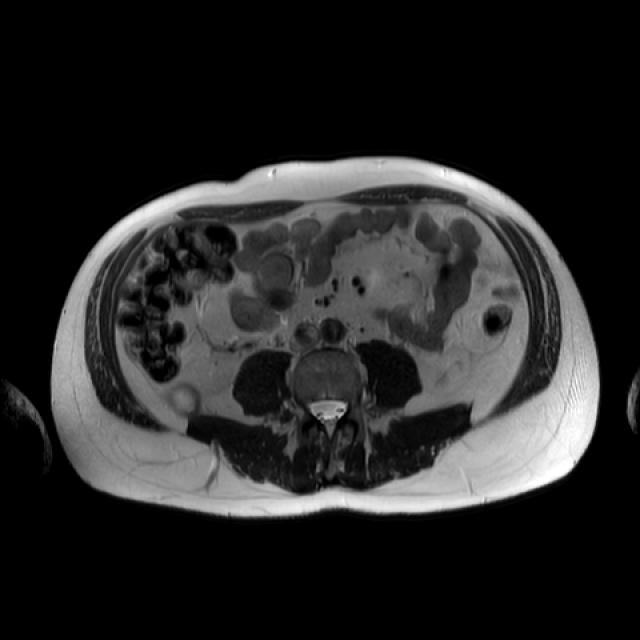sag: (172, 386, 198, 415)
